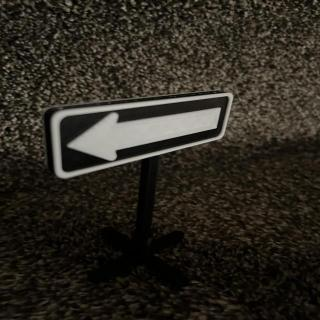sign_oneway_left: (43, 93, 235, 182)
